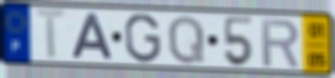5: (222, 14, 256, 68)
A: (68, 12, 116, 62)
G: (123, 12, 163, 64)
Q: (166, 14, 207, 67)
R: (260, 17, 302, 69)
T: (33, 7, 71, 62)
